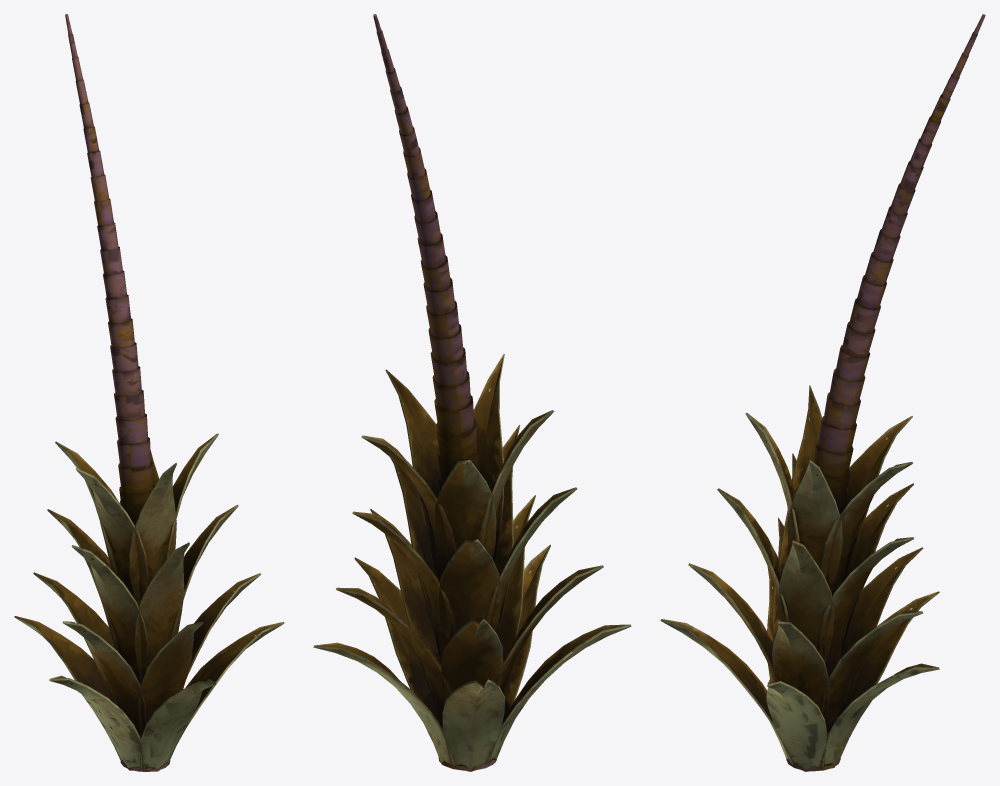
File: Plant 1.fbx
3 views of the same model, side by side, from view 1: azimuth 30°, elevation 25°; view 2: azimuth 150°, elevation 25°; view 3: azimuth 270°, elevation 25° (orthographic). The views are drawn at different scales.
Parts seen in each view (by area): view 1: Cylinder_1; view 2: Cylinder_1; view 3: Cylinder_1.
Boxes of the visible parts, x1,y1,x2,y2 form: Cylinder_1: [14, 14, 284, 771]; Cylinder_1: [313, 14, 631, 771]; Cylinder_1: [660, 14, 985, 771].
Size of the model in its own units: 293 by 822 by 324.
